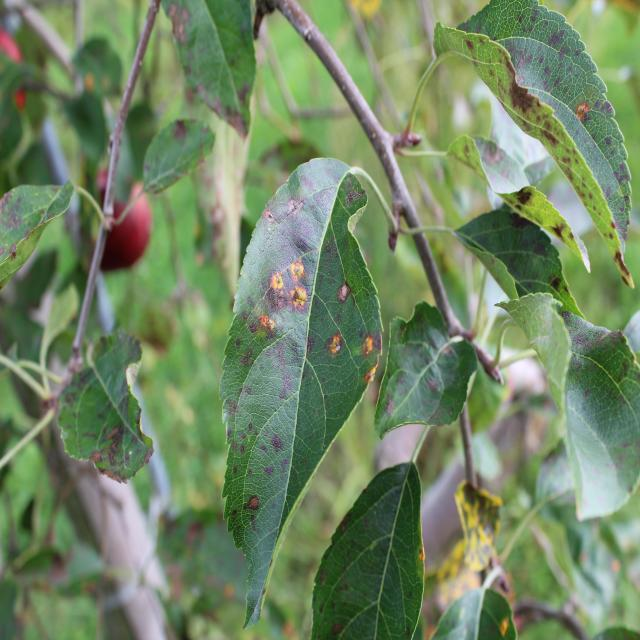Rust: (266, 237, 314, 323), (357, 322, 389, 392), (572, 89, 603, 150), (319, 325, 344, 373), (331, 275, 361, 308)
